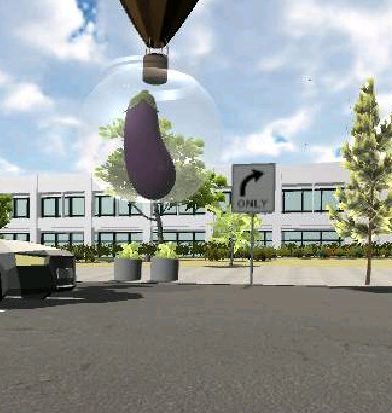arrow_right: (238, 167, 266, 198)
